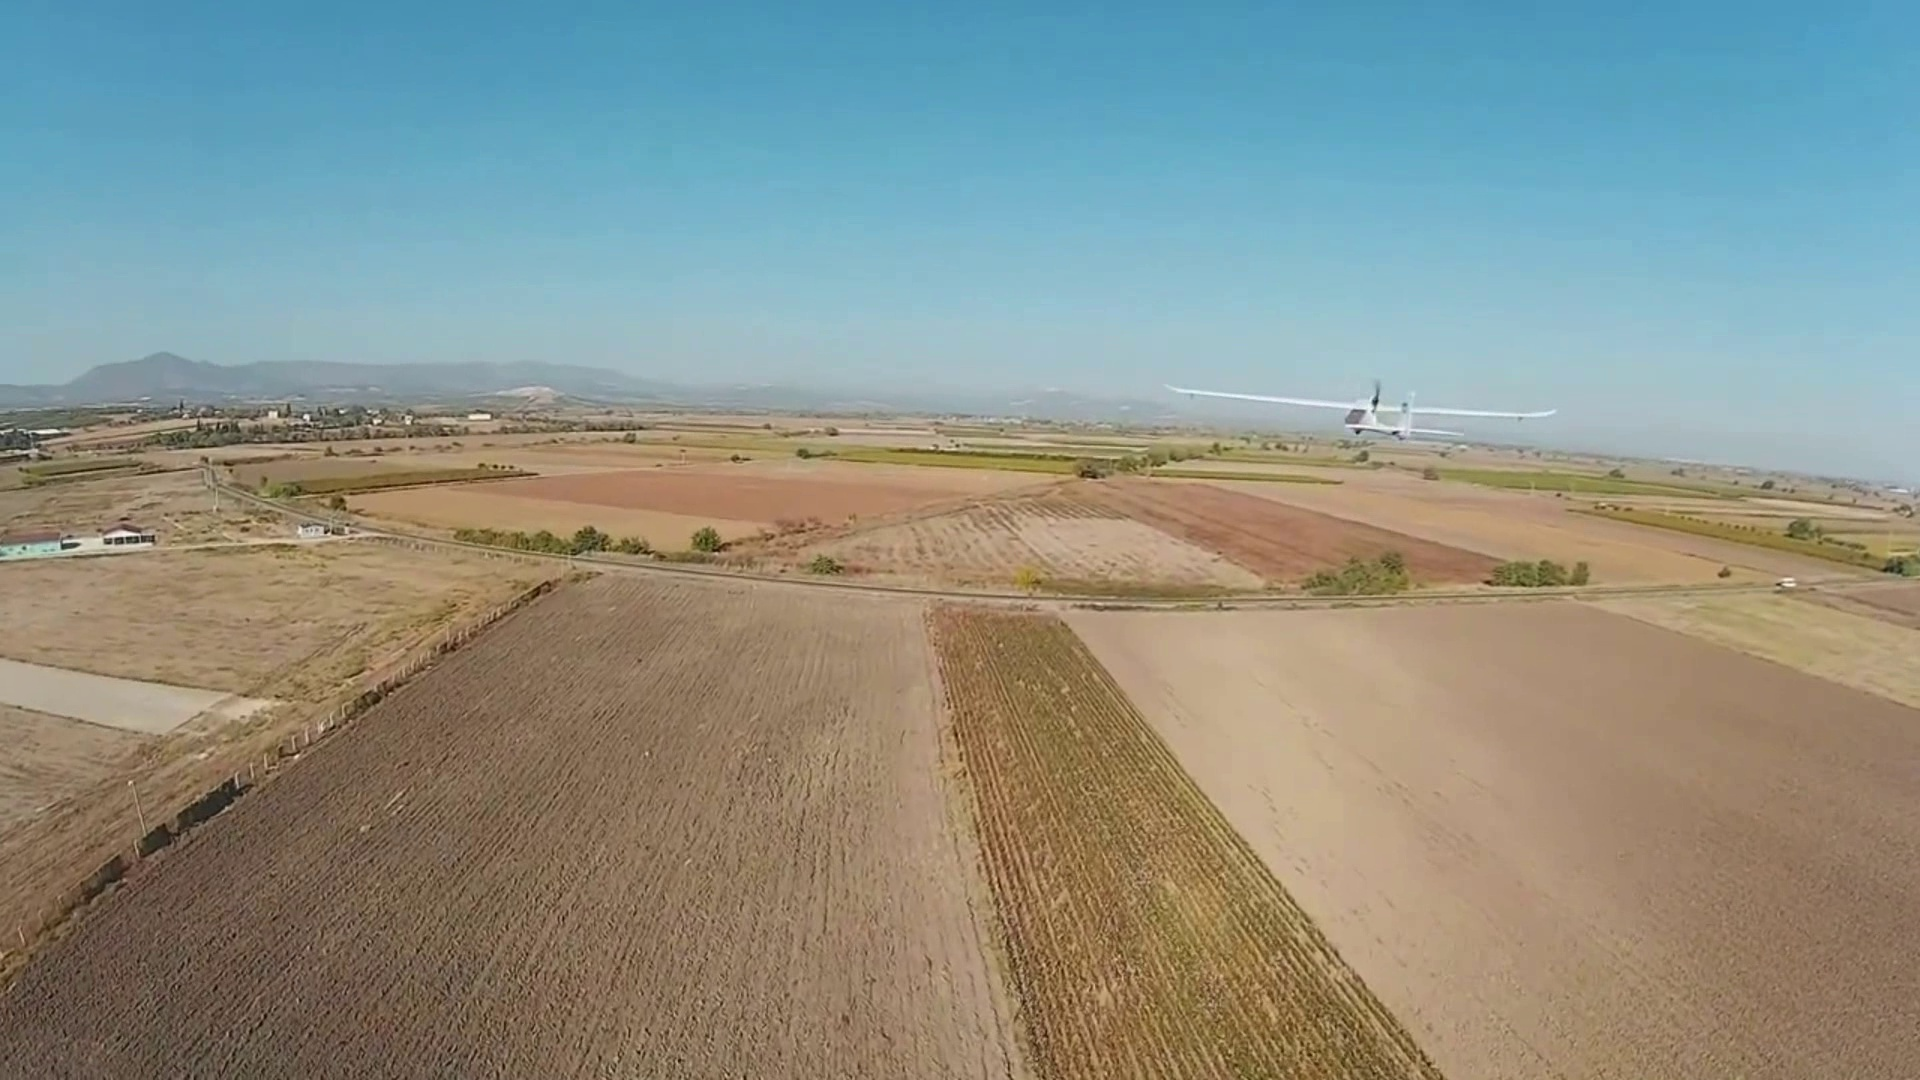airplane: (1160, 373, 1557, 450), (1, 522, 156, 558)
